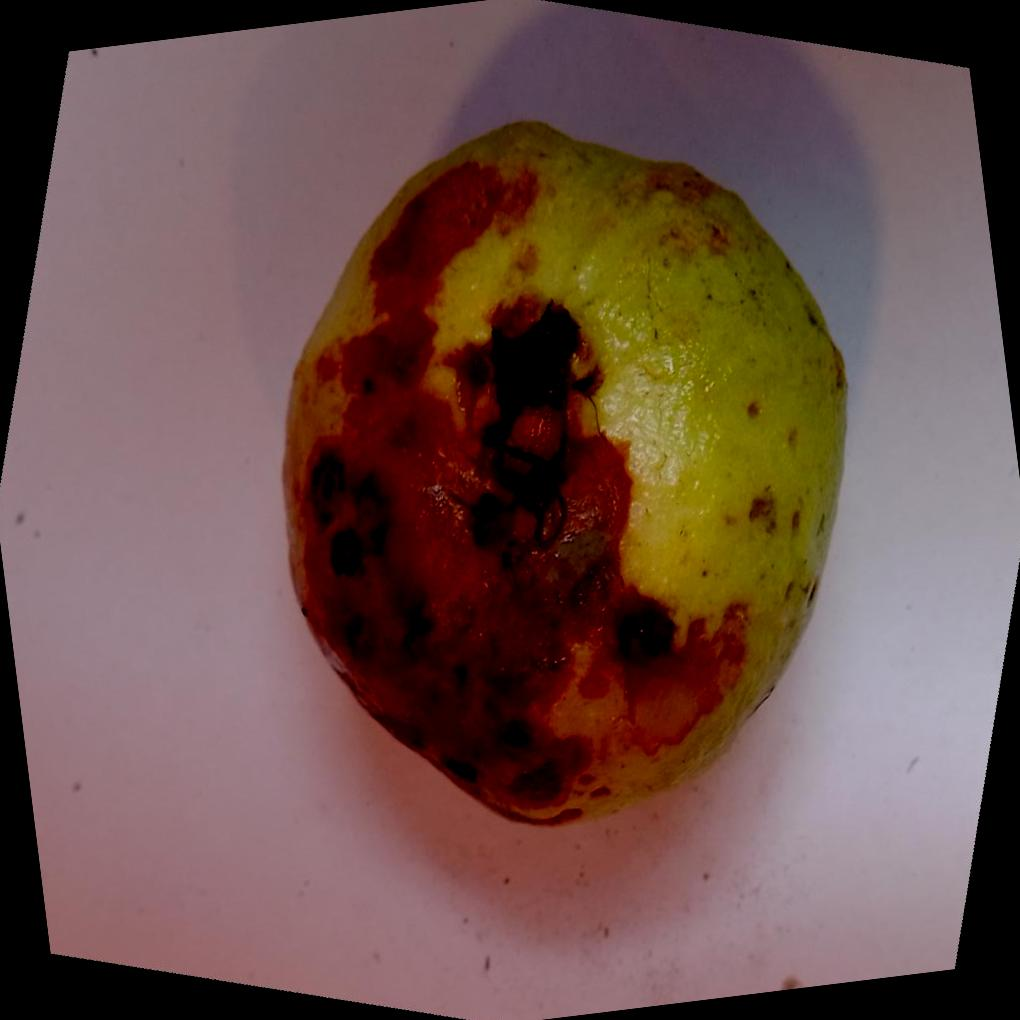FreshOrange: (283, 117, 851, 828)
